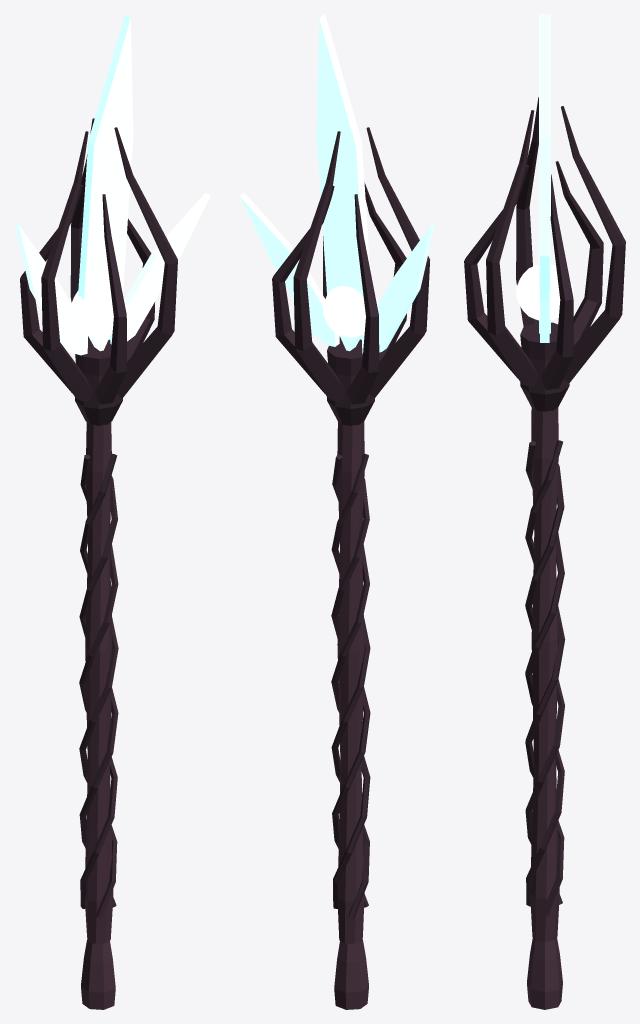
The model's file is staff_plumflame.glb.
The picture shows the model from 3 angles, left to right: view 1: azimuth 30°, elevation 25°; view 2: azimuth 150°, elevation 25°; view 3: azimuth 270°, elevation 25°; orthographic projection. The views are drawn at different scales.
Visible parts, largest first — view 1: Pf_Shaft, Pf_Spire, Pf_Tendril3, Pf_Tendril5, Pf_Side1, Pf_Tendril4, Pf_Side0, Pf_Vine2, Pf_Vine1, Pf_Vine0, Pf_Butt, Pf_Neck (+4 smaller); view 2: Pf_Shaft, Pf_Spire, Pf_Tendril1, Pf_Tendril3, Pf_Side0, Pf_Side1, Pf_Tendril2, Pf_Vine1, Pf_Vine0, Pf_Vine2, Pf_Butt, Pf_Neck (+3 smaller); view 3: Pf_Shaft, Pf_Tendril5, Pf_Tendril1, Pf_Spire, Pf_Tendril0, Pf_Vine0, Pf_Vine2, Pf_Tendril2, Pf_Vine1, Pf_Butt, Pf_Neck, Pf_Tendril3 (+3 smaller).
Boxes of the visible parts, box(x1,y1,x2,y2) form: Pf_Shaft: box(85, 422, 113, 943); Pf_Spire: box(78, 14, 133, 351); Pf_Tendril3: box(41, 131, 92, 402); Pf_Tendril5: box(114, 127, 177, 397); Pf_Side1: box(110, 192, 210, 344); Pf_Tendril4: box(95, 194, 127, 404); Pf_Side0: box(14, 222, 87, 355); Pf_Vine2: box(79, 453, 118, 918); Pf_Vine1: box(79, 454, 118, 908); Pf_Vine0: box(79, 476, 118, 907); Pf_Butt: box(81, 939, 115, 1009); Pf_Neck: box(75, 339, 122, 425); Pf_Shaft: box(337, 421, 364, 943); Pf_Spire: box(316, 14, 370, 351); Pf_Tendril1: box(293, 131, 344, 402); Pf_Tendril3: box(366, 127, 429, 397); Pf_Side0: box(362, 222, 435, 353); Pf_Side1: box(239, 192, 339, 346); Pf_Tendril2: box(347, 194, 379, 404); Pf_Vine1: box(331, 453, 370, 918); Pf_Vine0: box(331, 454, 370, 908); Pf_Vine2: box(331, 478, 370, 907); Pf_Butt: box(334, 939, 368, 1009); Pf_Neck: box(327, 339, 374, 425); Pf_Shaft: box(530, 407, 559, 941); Pf_Tendril5: box(486, 110, 538, 387); Pf_Tendril1: box(561, 106, 625, 382); Pf_Spire: box(539, 14, 550, 333); Pf_Tendril0: box(541, 174, 573, 389); Pf_Vine0: box(525, 440, 565, 916); Pf_Vine2: box(525, 441, 564, 906); Pf_Tendril2: box(555, 161, 603, 345); Pf_Vine1: box(525, 464, 564, 904); Pf_Butt: box(527, 938, 562, 1009); Pf_Neck: box(520, 322, 569, 411); Pf_Tendril3: box(516, 97, 538, 326).
Bounding box in the file's own units: 0.5609 × 2.74 × 0.4008.
